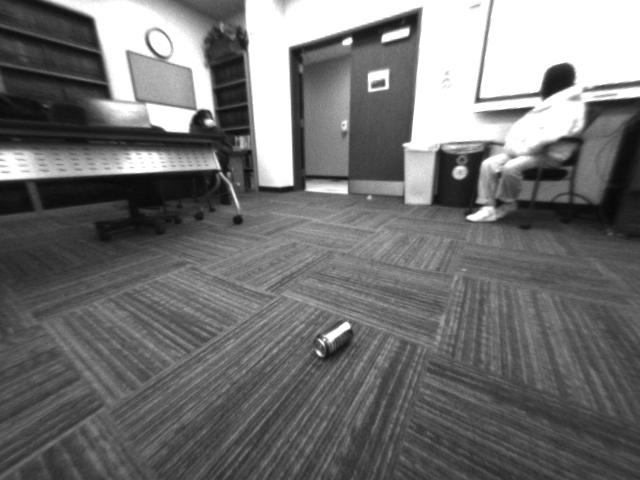can: (307, 318, 362, 362)
